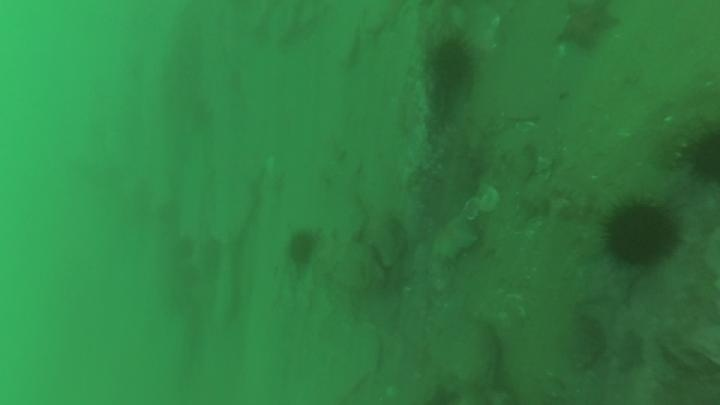echinus: (599, 197, 683, 270), (661, 112, 712, 176), (427, 35, 478, 90), (684, 121, 720, 187), (283, 227, 321, 271)
starfish: (554, 2, 622, 54), (428, 210, 471, 264)
